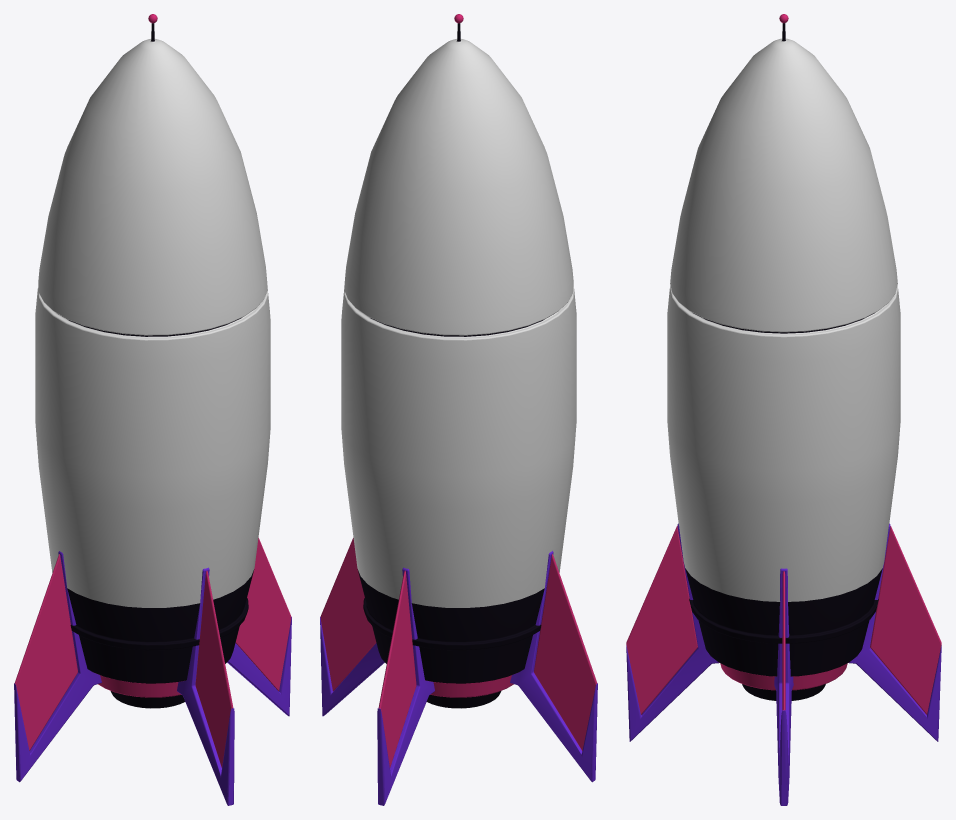
Rendered from rocket_scene.glb.
3 views of the same model, side by side, from view 1: azimuth 30°, elevation 25°; view 2: azimuth 150°, elevation 25°; view 3: azimuth 270°, elevation 25° (orthographic).
Visible parts, largest first — view 1: body, wing_inside, wing_outside; view 2: body, wing_inside, wing_outside; view 3: body, wing_inside, wing_outside.
Part boxes in pixels (left/top/right/bottom): body: left=35, top=14, right=270, bottom=708; wing_inside: left=14, top=538, right=291, bottom=767; wing_outside: left=14, top=551, right=291, bottom=805; body: left=341, top=14, right=576, bottom=708; wing_inside: left=320, top=538, right=597, bottom=767; wing_outside: left=320, top=551, right=597, bottom=805; body: left=667, top=14, right=900, bottom=700; wing_inside: left=626, top=526, right=941, bottom=714; wing_outside: left=626, top=523, right=941, bottom=805.
Size of the model in its own units: 2.61 by 6.62 by 2.61.
